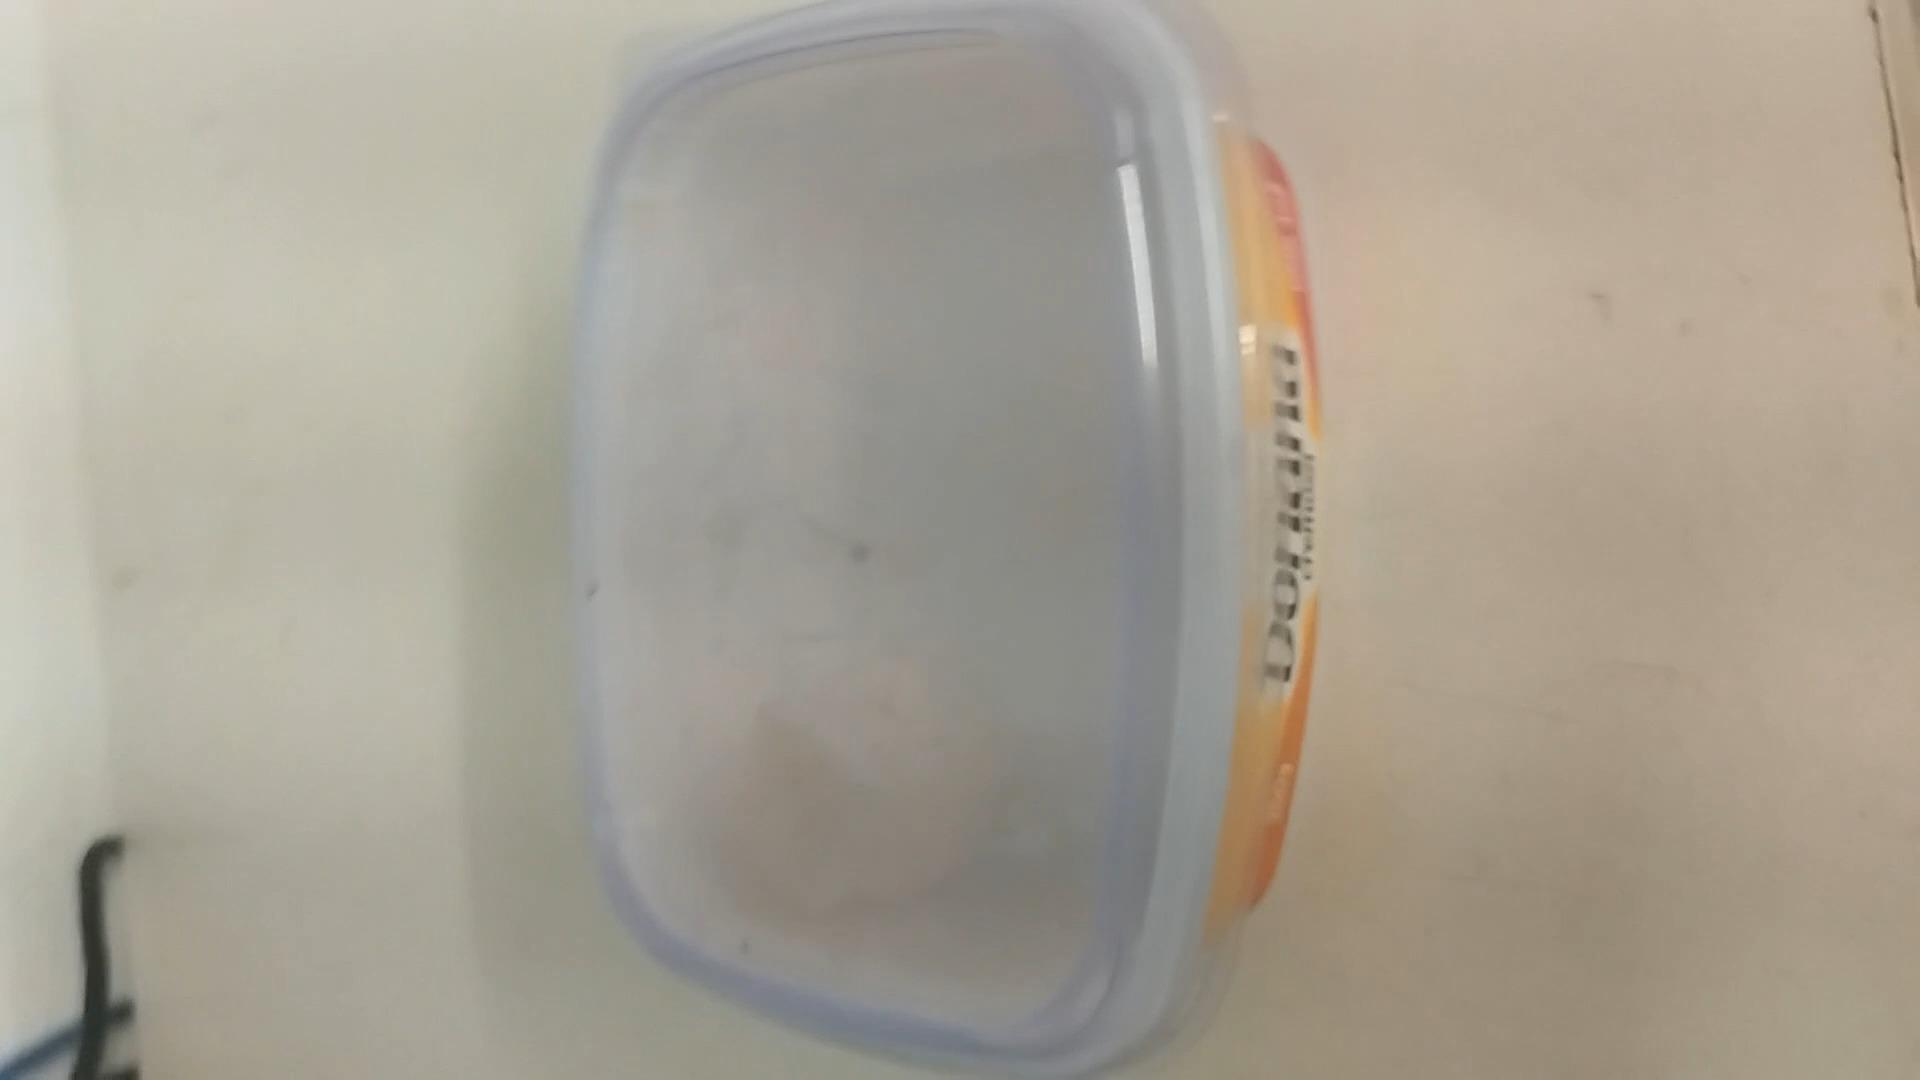butter: (579, 8, 1348, 1069)
